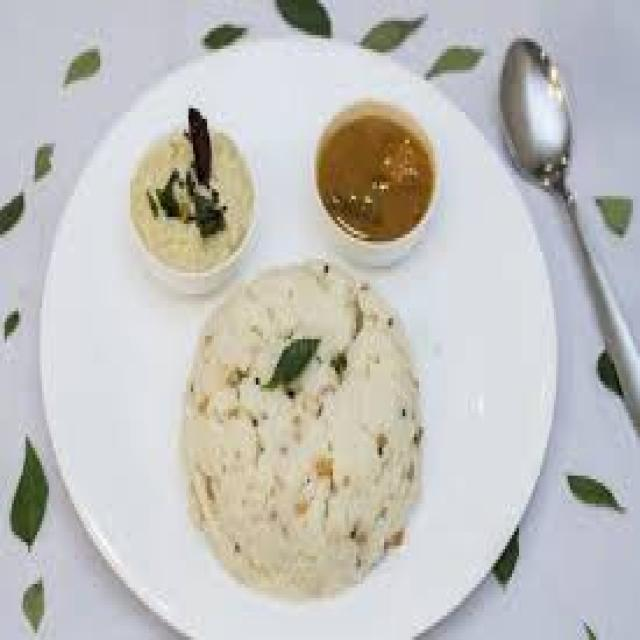UPMA: (182, 255, 412, 584)
